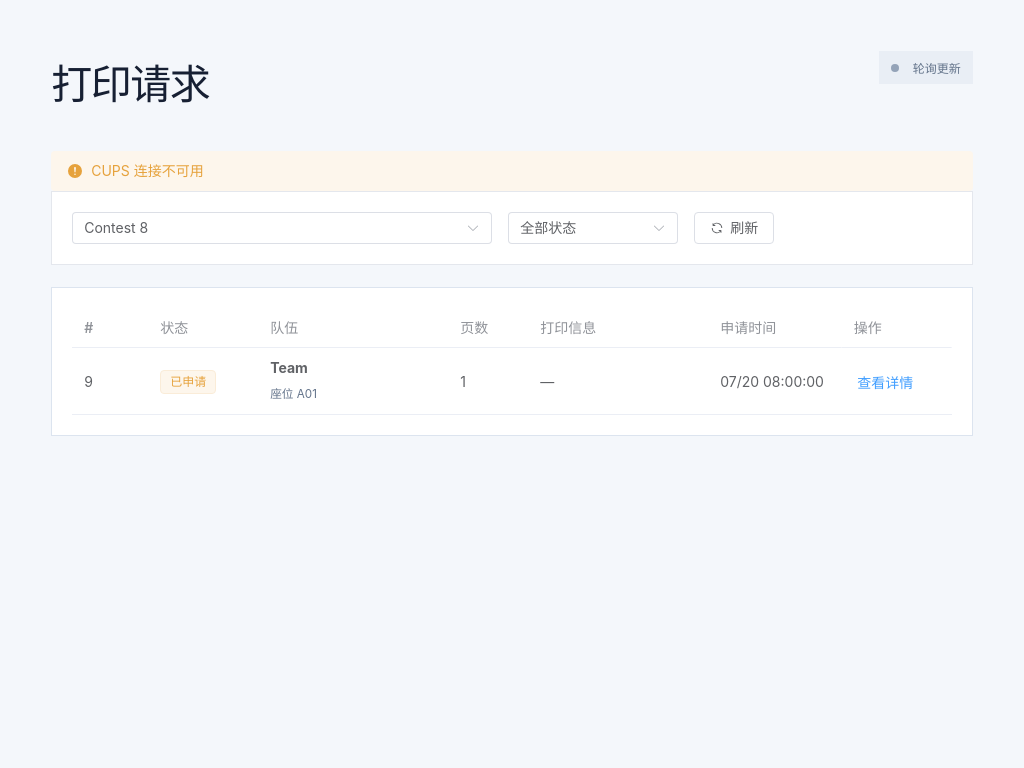
Test: PrinterRequestsView › hides PDF download until the request has finished rendering
Click the row "9 已申请 Team 座位 A01 1 — 07/20 08:00:00 查看详情".
click(530, 382)  # box x1=72 y1=348 x2=988 y2=415
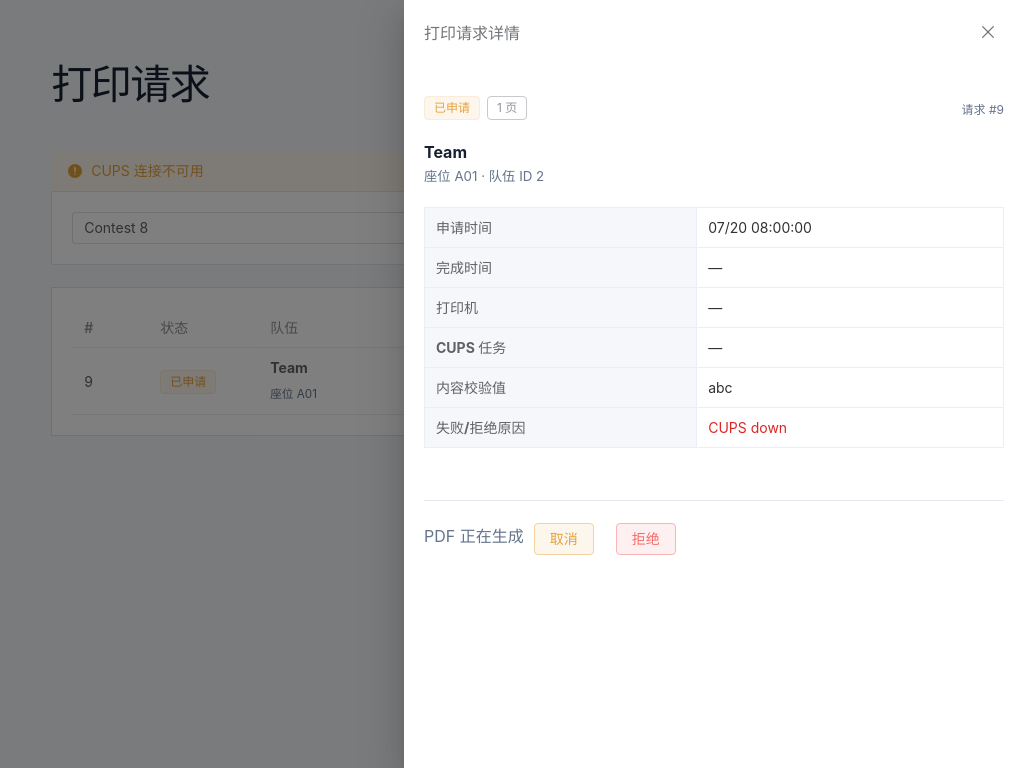
Check: the text "PDF 正在生成" is shown, box x1=424 y1=523 x2=524 y2=555
